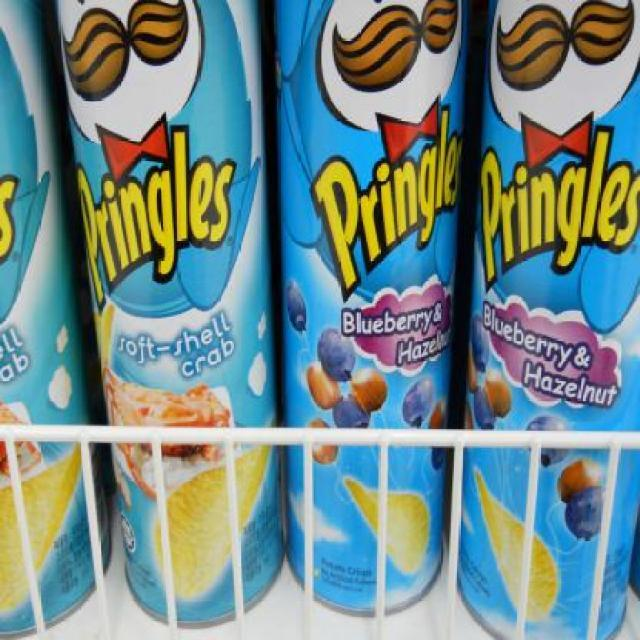Chips: (51, 1, 275, 639), (454, 3, 640, 635), (274, 0, 448, 628)
